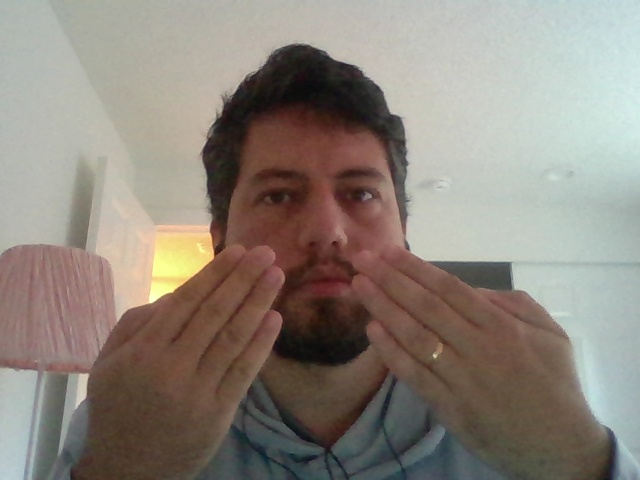ThankYou: (74, 239, 611, 480)
